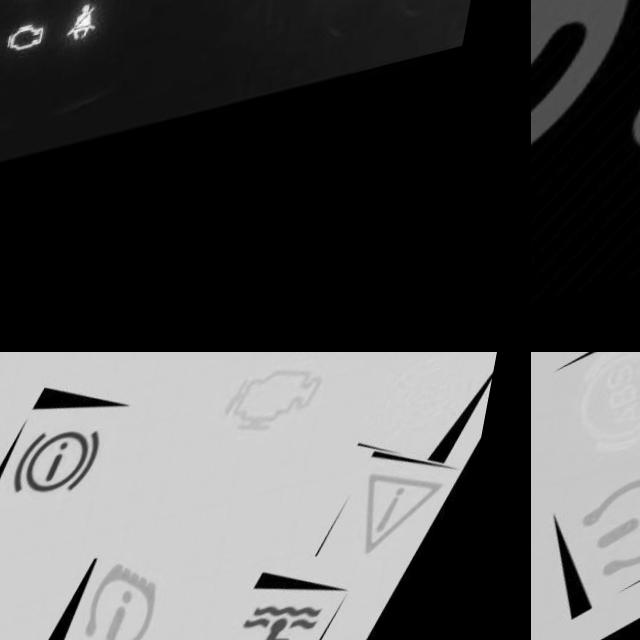Electronic Power Steering: (531, 0, 640, 254)
Seat Belt: (80, 14, 113, 55)
